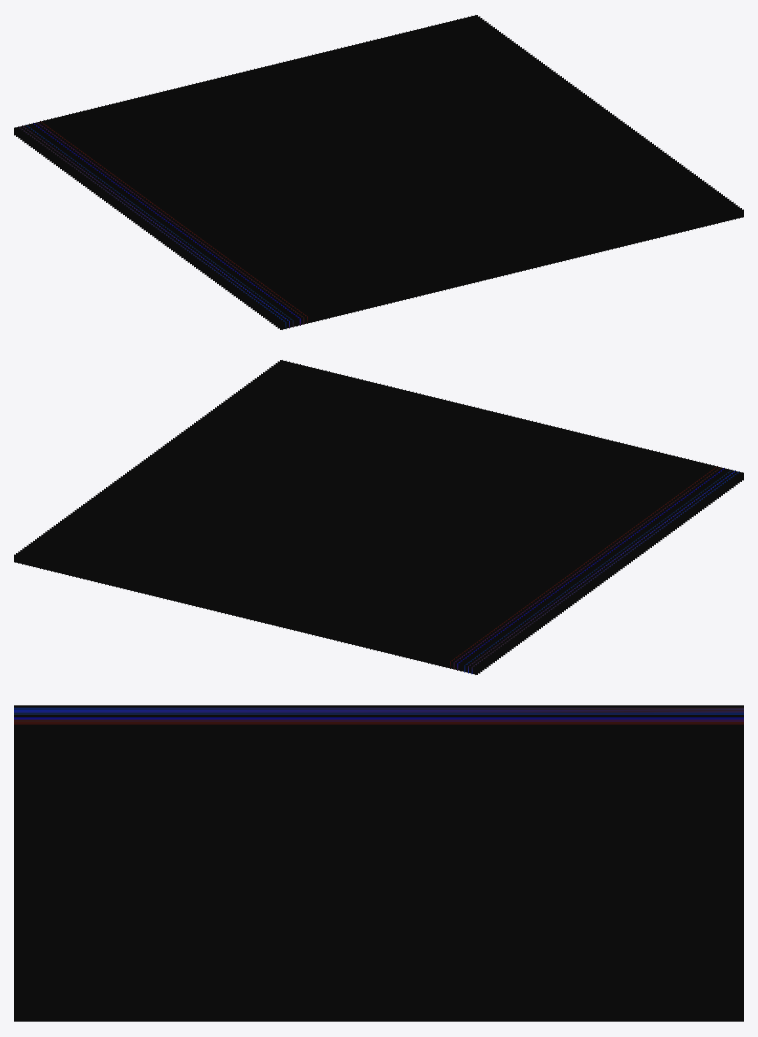
File: Grass_1x1.gltf
The picture shows the model from 3 angles, top to bottom: view 1: azimuth 30°, elevation 25°; view 2: azimuth 150°, elevation 25°; view 3: azimuth 270°, elevation 25°; orthographic projection. The views are drawn at different scales.
Visible parts, largest first — view 1: Grass_1x1; view 2: Grass_1x1; view 3: Grass_1x1.
Part boxes in pixels (<box>): Grass_1x1: <box>14,15,743,329</box>; Grass_1x1: <box>14,360,743,674</box>; Grass_1x1: <box>14,705,743,1021</box>.
Bounding box in the file's own units: 5.12 × 0.08 × 5.12.
